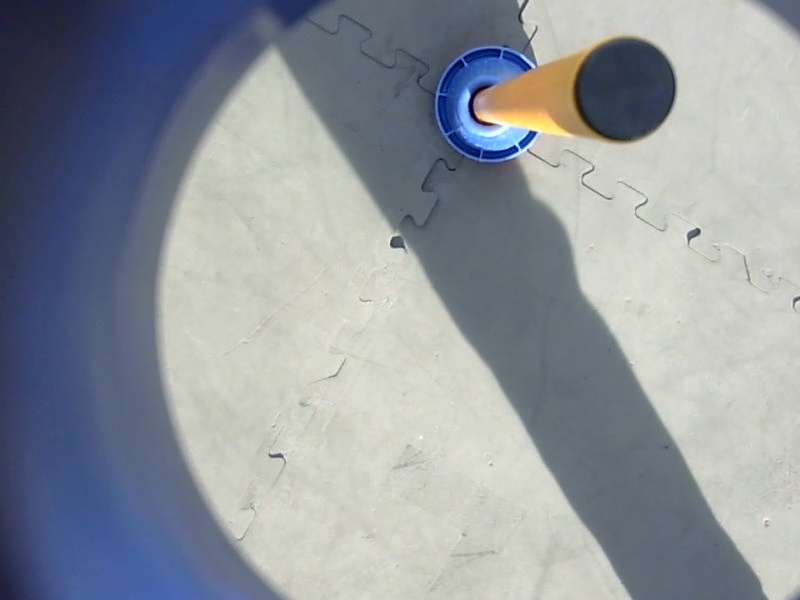tip: (564, 30, 685, 151)
